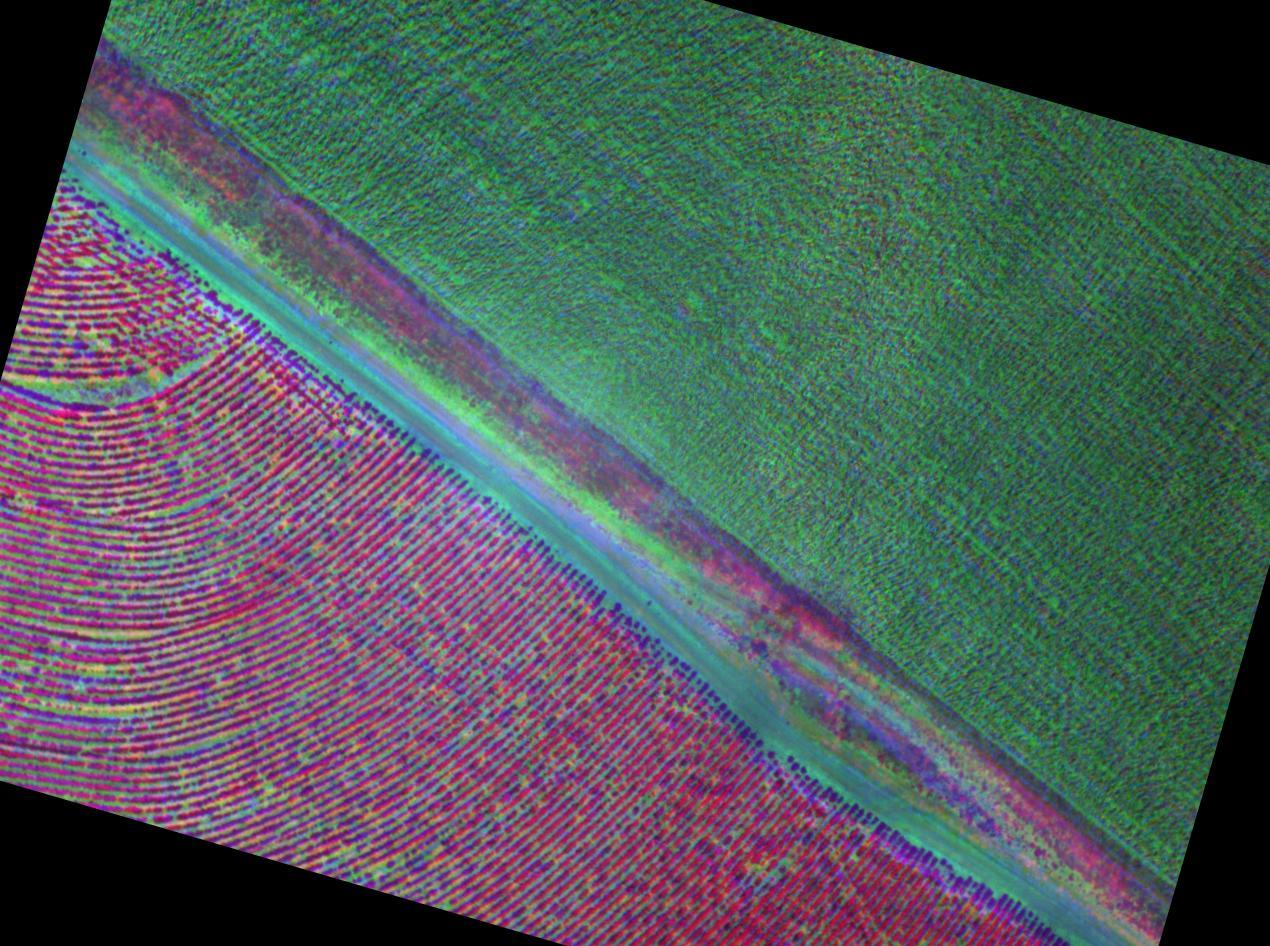dc: (41, 628, 152, 737), (13, 353, 216, 412), (256, 783, 377, 861), (193, 463, 274, 544), (71, 218, 131, 283)
